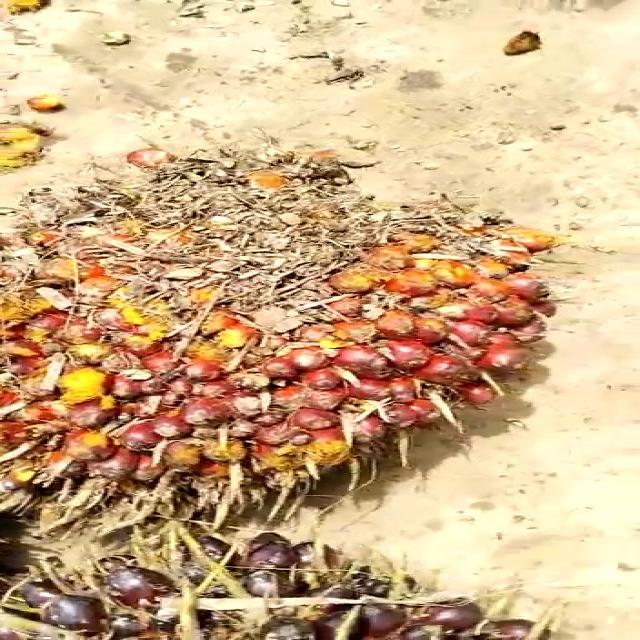palm oil: (0, 134, 582, 556)
